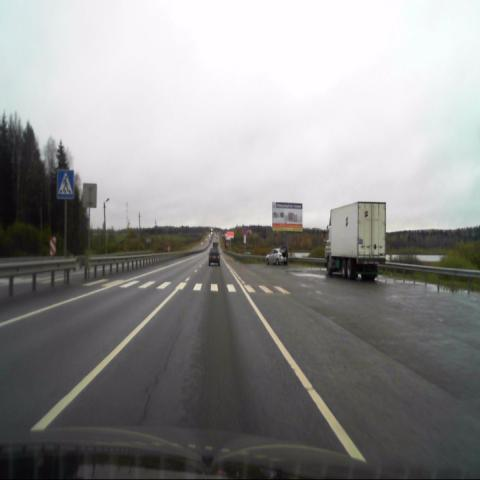5_19_1: (56, 169, 73, 198)
